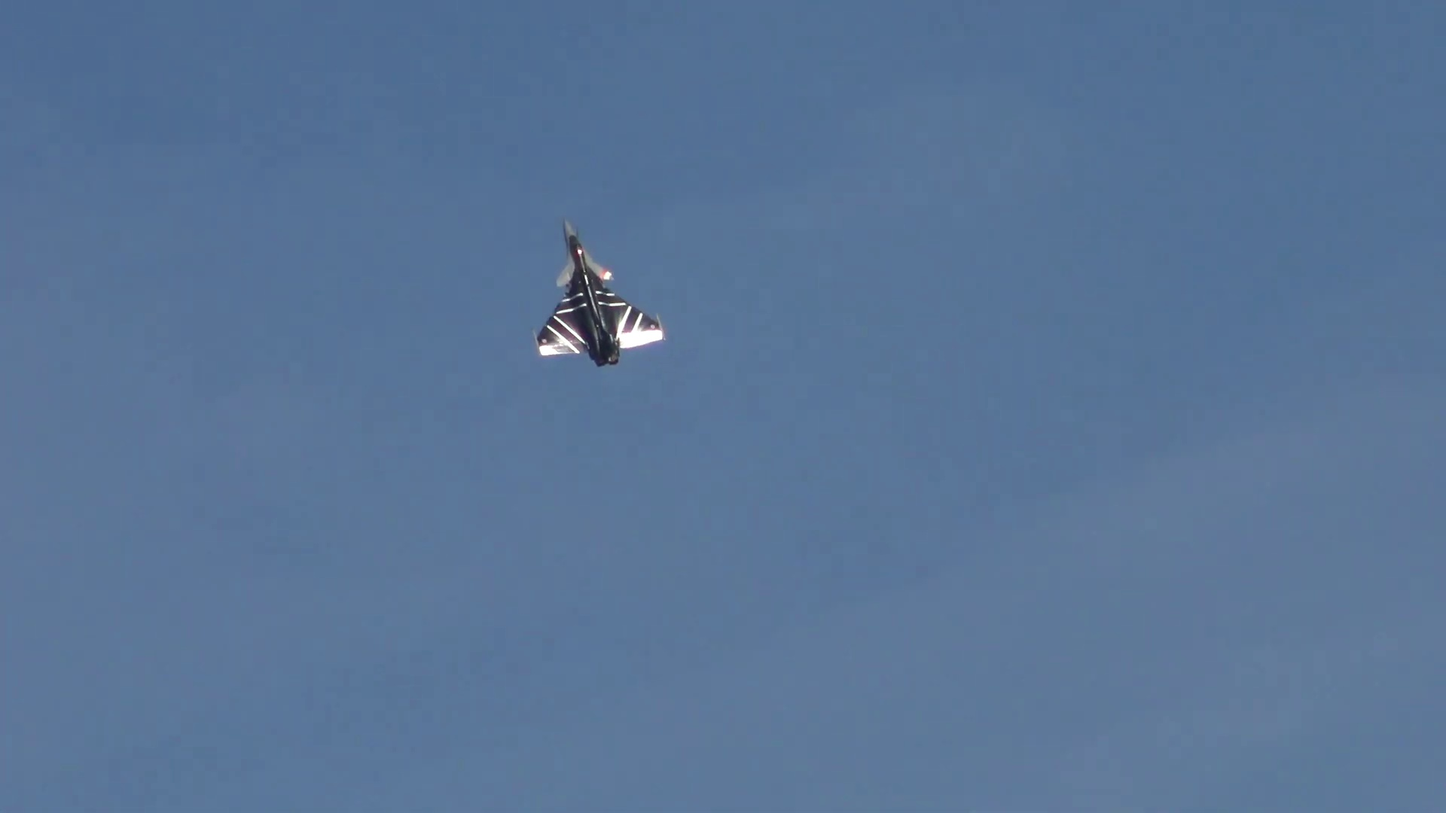Rafale: (530, 215, 676, 374)
